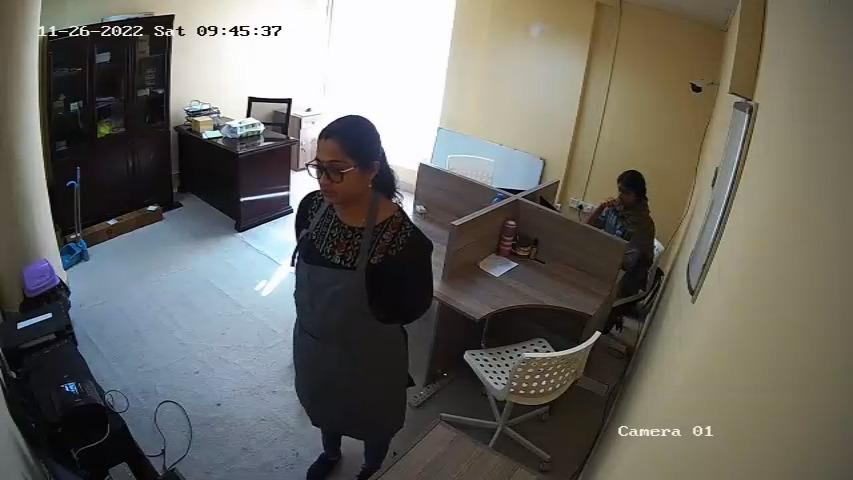apron: (292, 206, 406, 404)
